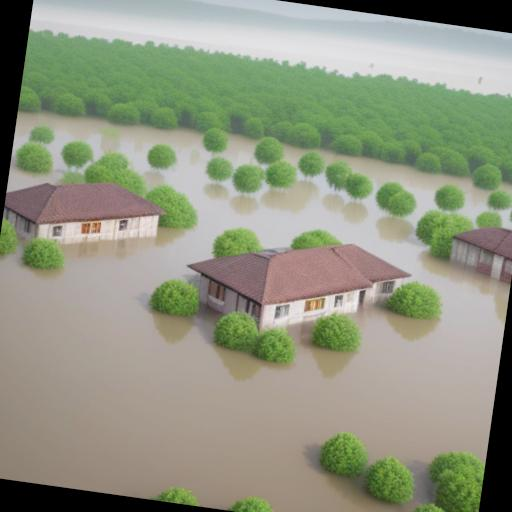flood: (0, 111, 510, 512), (222, 134, 256, 166), (284, 144, 308, 166), (503, 208, 512, 228), (502, 183, 512, 194)
house: (196, 221, 416, 359), (0, 160, 172, 269), (447, 218, 512, 289)
